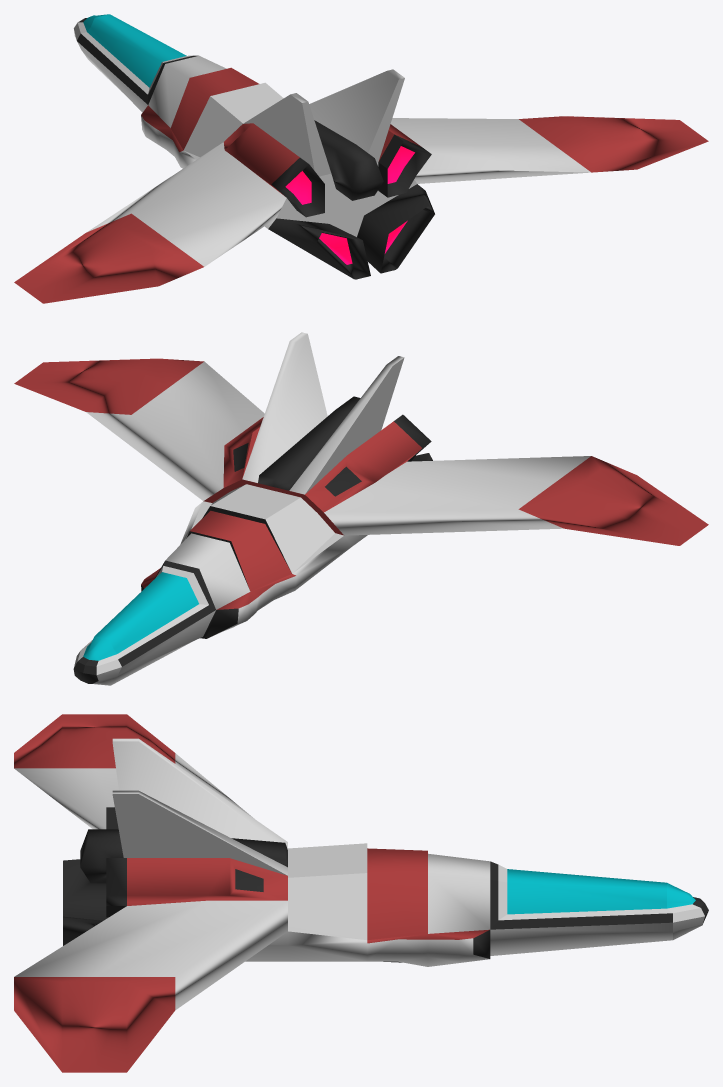
The model's file is JetFireRework.fbx.
3 views of the same model, one above another, from view 1: azimuth 30°, elevation 25°; view 2: azimuth 150°, elevation 25°; view 3: azimuth 270°, elevation 25° (orthographic). The views are drawn at different scales.
Parts seen in each view (by area): view 1: pCylinder1; view 2: pCylinder1; view 3: pCylinder1.
Part boxes in pixels (bbox=[...]): pCylinder1: bbox=[14, 14, 708, 303]; pCylinder1: bbox=[14, 332, 708, 685]; pCylinder1: bbox=[14, 714, 708, 1072].
Bounding box in the file's own units: 37.39 × 9.11 × 30.63.
